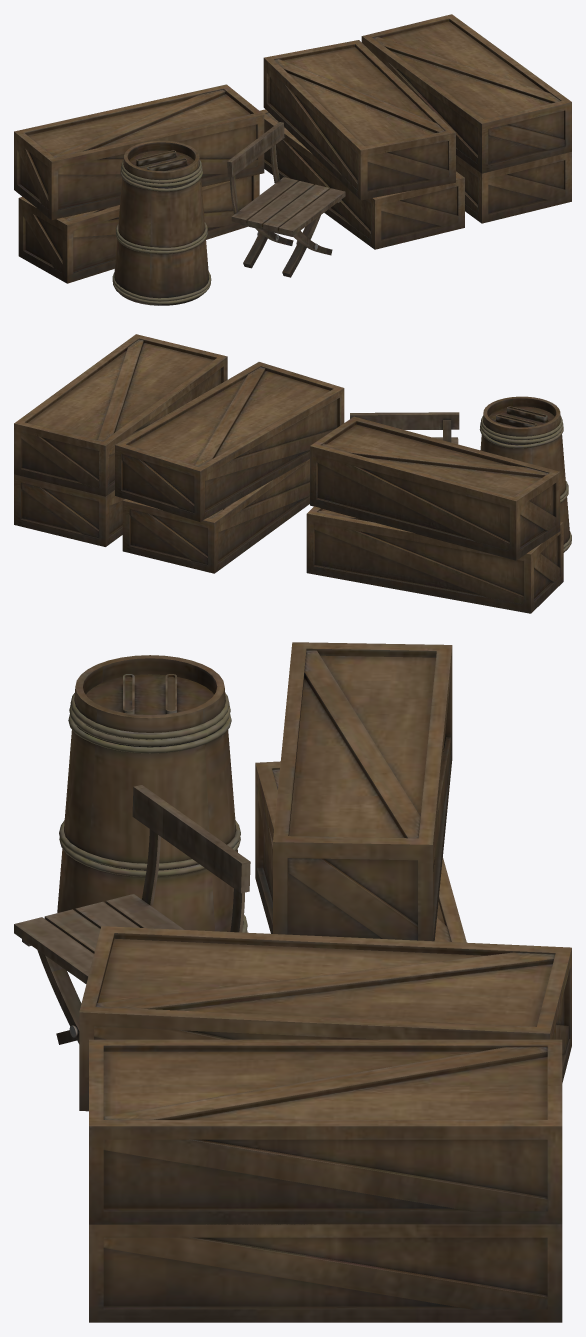
The model's file is SM_crate_group_02.glb.
The picture shows the model from 3 angles, top to bottom: view 1: azimuth 30°, elevation 25°; view 2: azimuth 150°, elevation 25°; view 3: azimuth 270°, elevation 25°; orthographic projection. The views are drawn at different scales.
Parts seen in each view (by area): view 1: SM_crate_group_02; view 2: SM_crate_group_02; view 3: SM_crate_group_02.
Boxes of the visible parts, x1=… form: SM_crate_group_02: x1=14, y1=14, x2=571, y2=305; SM_crate_group_02: x1=14, y1=334, x2=571, y2=613; SM_crate_group_02: x1=14, y1=642, x2=571, y2=1322.
Size of the model in its own units: 4.12 by 1.09 by 2.15.
Materials: 3 (3 with a texture image).
